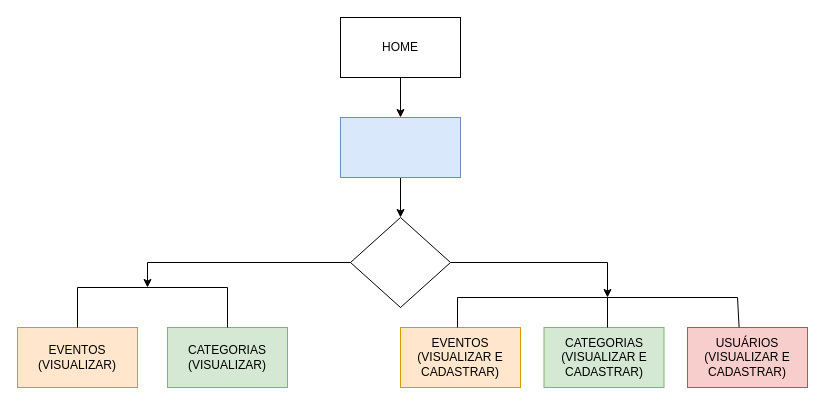
Some shapes in this 825 by 405 pixel diagram are drawn without their labels. Here are the shapes that lost their labels. From the top down, the centre of each, then its label:
At [400,147]: "LOGIN".
At [400,262]: "ADM?".
